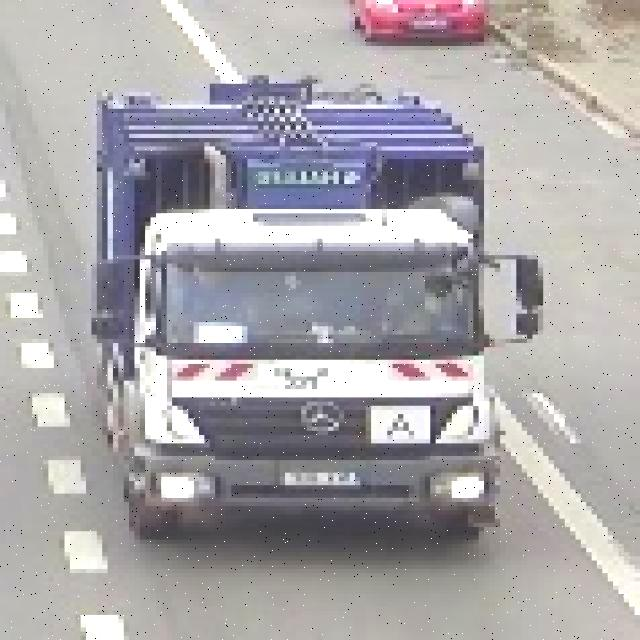truck: (80, 71, 544, 548)
